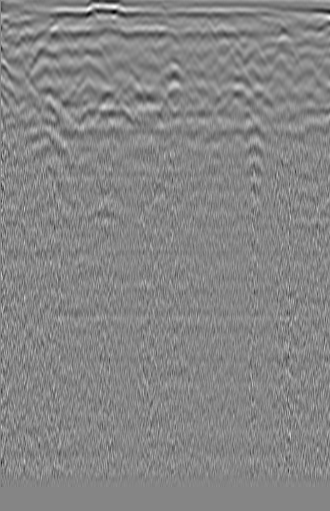가스: (82, 196, 125, 225)
상수: (12, 25, 36, 55)
오수: (296, 16, 329, 49)
우수: (157, 23, 177, 43)
